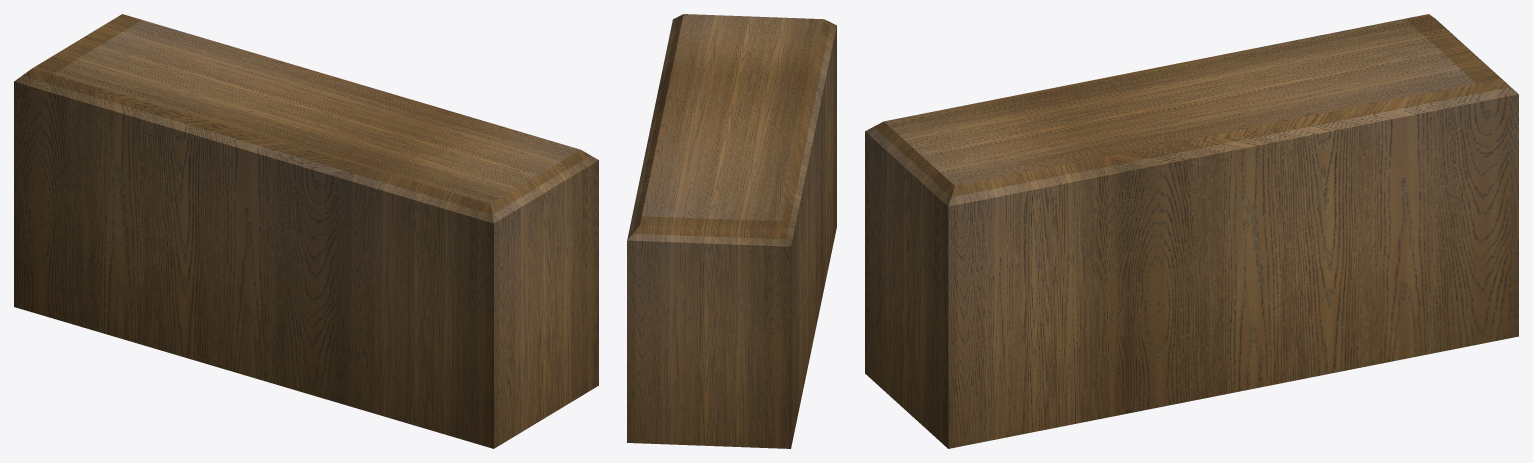
Rendered from Obstacle_032.obj.
3 renders of one model, left to right at view 1: azimuth 30°, elevation 25°; view 2: azimuth 150°, elevation 25°; view 3: azimuth 270°, elevation 25°, orthographic. The views are drawn at different scales.
Parts seen in each view (by area): view 1: Box098; view 2: Box098; view 3: Box098.
Boxes of the visible parts, x1=… form: Box098: x1=14, y1=14, x2=598, y2=448; Box098: x1=627, y1=14, x2=836, y2=448; Box098: x1=865, y1=14, x2=1518, y2=448.
Bounding box in the file's own units: 62.21 × 39.37 × 91.48.
